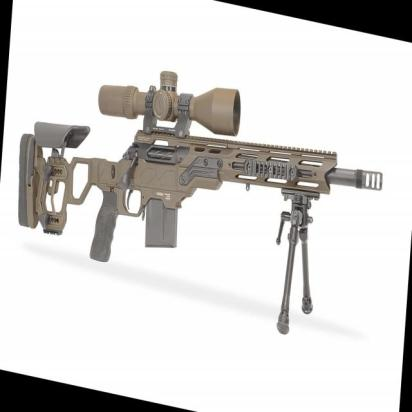Gun: (5, 48, 412, 311)
